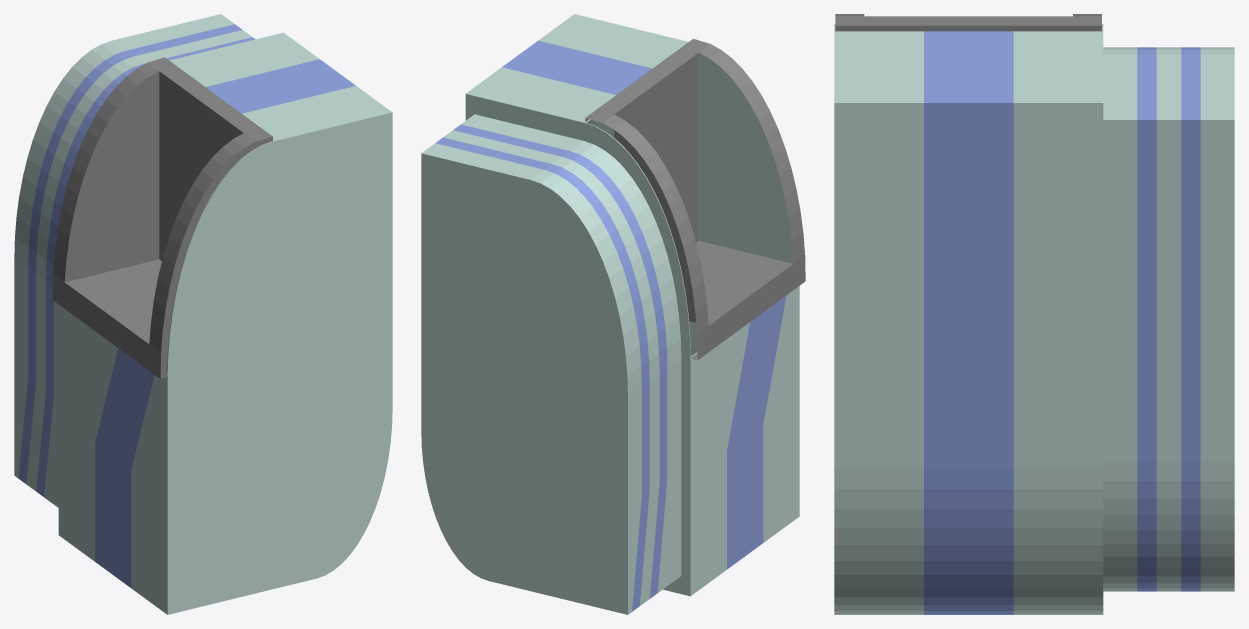
The model's file is 3D_Ekran_Bina.glb.
3 views of the same model, side by side, from view 1: azimuth 30°, elevation 25°; view 2: azimuth 150°, elevation 25°; view 3: azimuth 270°, elevation 25° (orthographic). The views are drawn at different scales.
Visible parts, largest first — view 1: C5DFD9FF, 8B8B8BFF, 90A6E7FF; view 2: C5DFD9FF, 8B8B8BFF, 90A6E7FF; view 3: C5DFD9FF, 90A6E7FF, 8B8B8BFF.
Boxes of the visible parts, x1,y1,x2,y2 form: C5DFD9FF: [14, 14, 392, 614]; 8B8B8BFF: [52, 57, 272, 378]; 90A6E7FF: [18, 24, 355, 587]; C5DFD9FF: [421, 14, 799, 614]; 8B8B8BFF: [585, 39, 805, 360]; 90A6E7FF: [435, 40, 786, 611]; C5DFD9FF: [834, 24, 1234, 614]; 90A6E7FF: [924, 31, 1200, 614]; 8B8B8BFF: [835, 14, 1101, 31].
Bounding box in the file's own units: 4.88 × 9.1 × 5.92.
